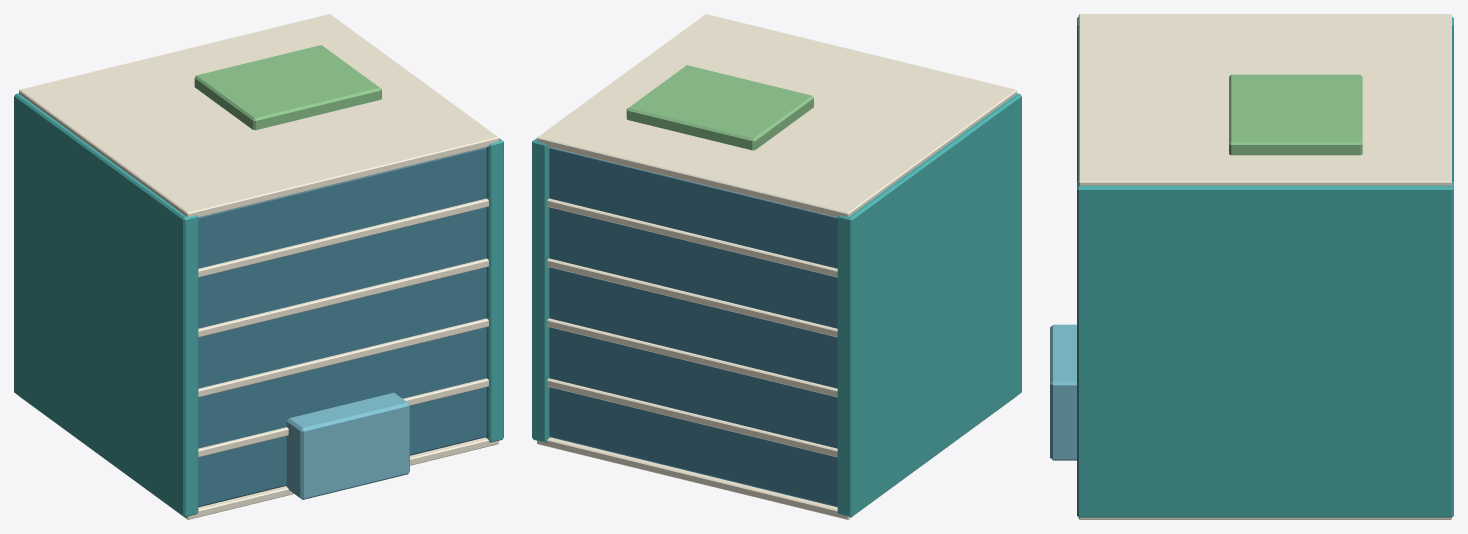
3 renders of one model, left to right at view 1: azimuth 30°, elevation 25°; view 2: azimuth 150°, elevation 25°; view 3: azimuth 270°, elevation 25°, orthographic. The views are drawn at different scales.
Parts seen in each view (by area): view 1: OFF_LOW_2x2_001_Visual; view 2: OFF_LOW_2x2_001_Visual; view 3: OFF_LOW_2x2_001_Visual.
Boxes of the visible parts, <box> form: OFF_LOW_2x2_001_Visual: <box>14,14,503,519</box>; OFF_LOW_2x2_001_Visual: <box>532,14,1021,519</box>; OFF_LOW_2x2_001_Visual: <box>1050,14,1453,519</box>.
Size of what is drawn, in the model's own units: 3.36 by 3.19 by 3.32.
